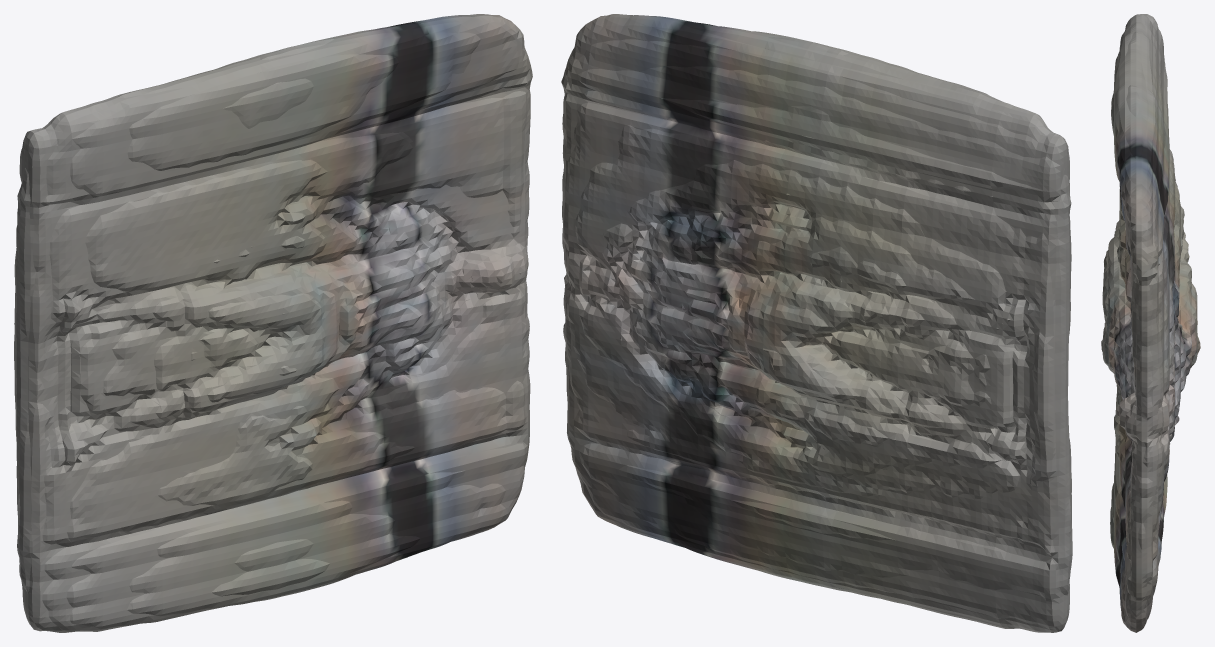
Rendered from player.glb.
The picture shows the model from 3 angles, left to right: view 1: azimuth 30°, elevation 25°; view 2: azimuth 150°, elevation 25°; view 3: azimuth 270°, elevation 25°; orthographic projection. The views are drawn at different scales.
Parts seen in each view (by area): view 1: geometry_0; view 2: geometry_0; view 3: geometry_0.
Part boxes in pixels (x1,y1,x2,y2): geometry_0: [14, 14, 532, 632]; geometry_0: [561, 14, 1072, 632]; geometry_0: [1101, 14, 1200, 632].
Size of the model in its own units: 0.9864 by 0.9982 by 0.1944.
